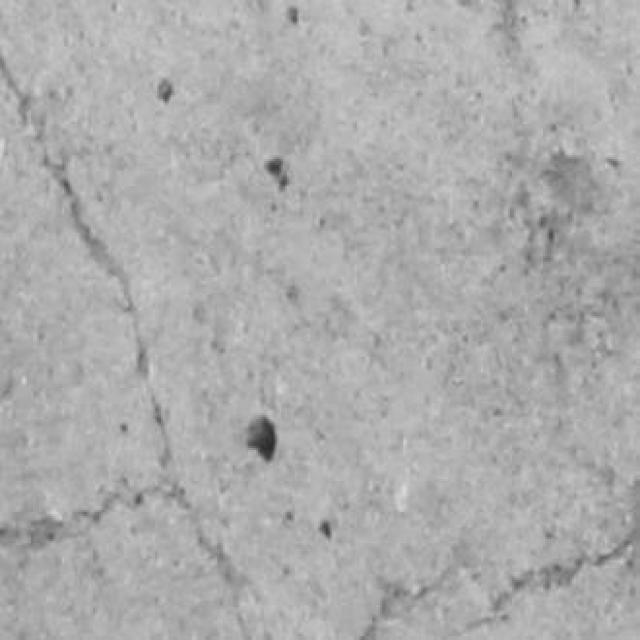crack: (0, 53, 255, 605), (454, 536, 634, 636), (0, 483, 174, 550), (359, 567, 453, 639)
